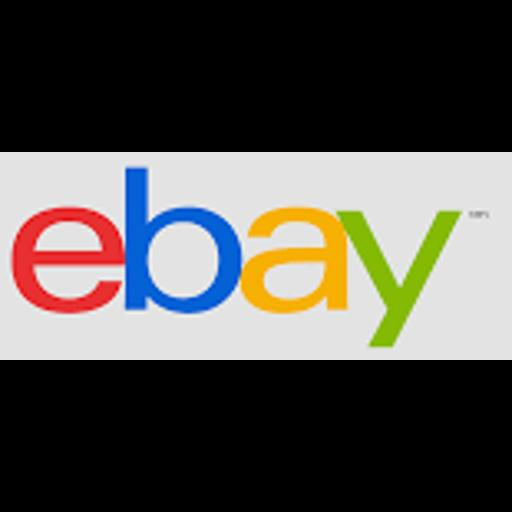eBay: (0, 152, 512, 360)
